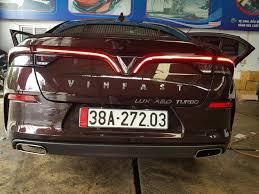numplate: (77, 105, 168, 130)
